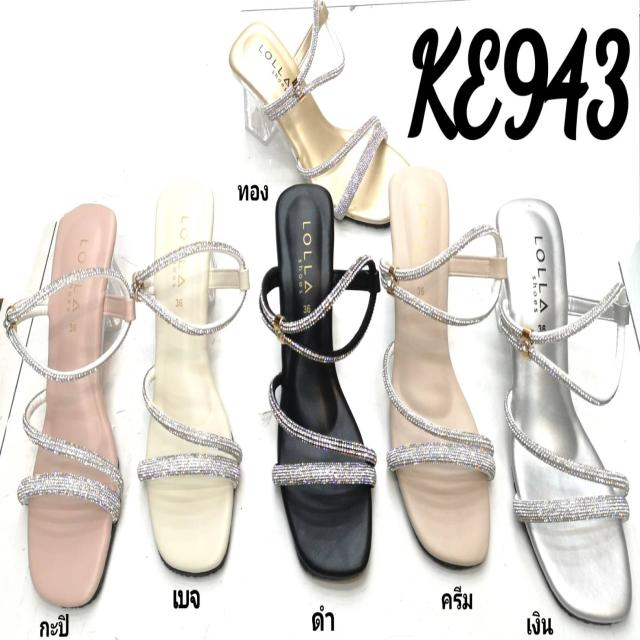bej: (148, 178, 234, 570)
black: (270, 188, 370, 582)
cream: (385, 169, 494, 565)
gold: (228, 20, 414, 228)
kapi: (33, 201, 118, 605)
silver: (498, 201, 636, 621)
